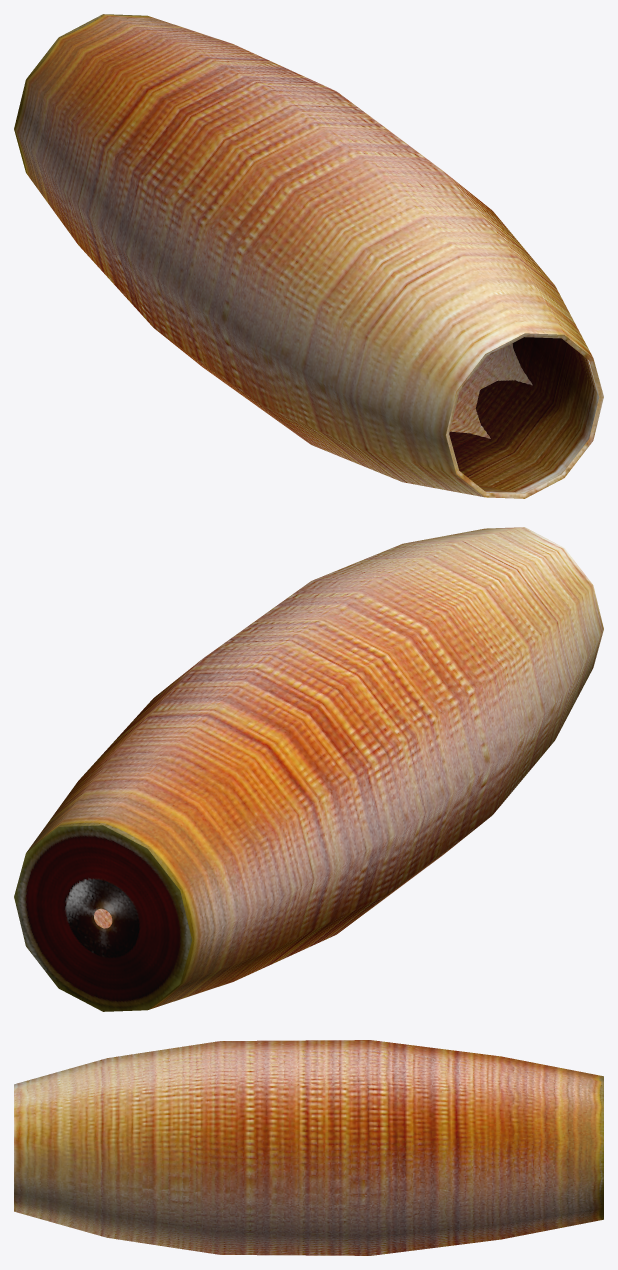
Rendered from HSM0026.obj.
The picture shows the model from 3 angles, top to bottom: view 1: azimuth 30°, elevation 25°; view 2: azimuth 150°, elevation 25°; view 3: azimuth 270°, elevation 25°; orthographic projection. The views are drawn at different scales.
Visible parts, largest first — view 1: Vase_Low; view 2: Vase_Low; view 3: Vase_Low.
Part boxes in pixels (bbox=[...]): Vase_Low: bbox=[14, 14, 603, 498]; Vase_Low: bbox=[14, 527, 603, 1011]; Vase_Low: bbox=[14, 1040, 603, 1255].
Bounding box in the file's own units: 22.02 × 22.02 × 59.94.
1 material, 1 textured.
